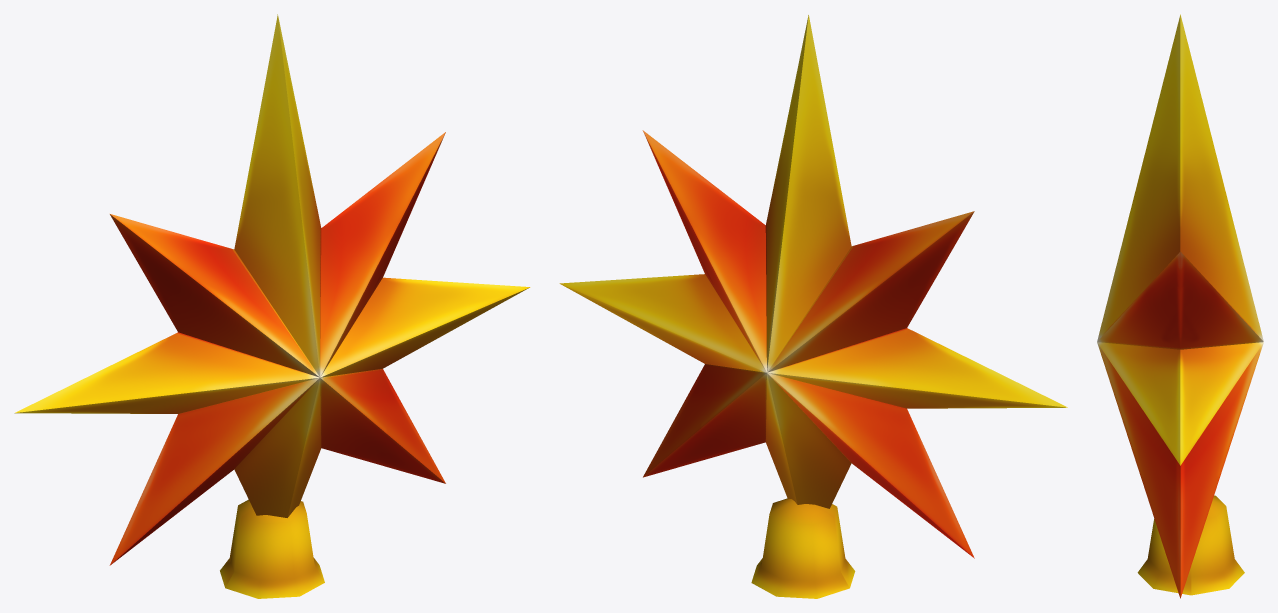
File: Star.FBX
3 views of the same model, side by side, from view 1: azimuth 30°, elevation 25°; view 2: azimuth 150°, elevation 25°; view 3: azimuth 270°, elevation 25° (orthographic).
Parts seen in each view (by area): view 1: Star; view 2: Star; view 3: Star.
Boxes of the visible parts, x1,y1,x2,y2 form: Star: (14, 14, 530, 598); Star: (559, 15, 1067, 598); Star: (1097, 14, 1263, 598).
Bounding box in the file's own units: 411 × 431 × 117.
